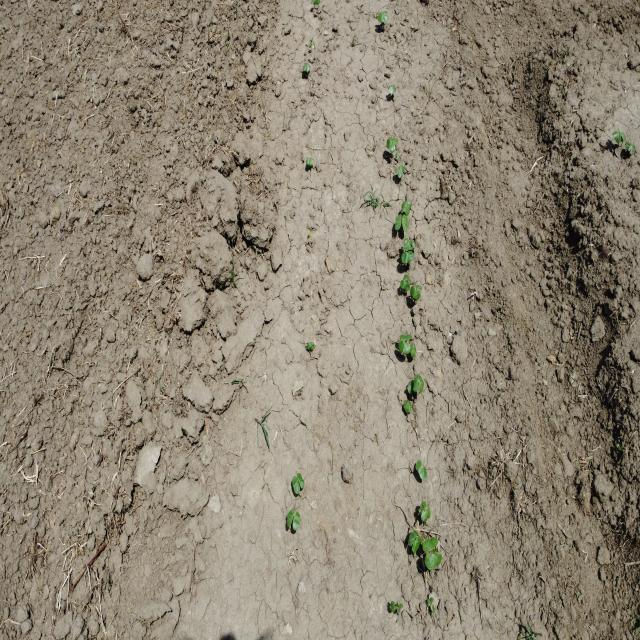seedling: (424, 552, 442, 570), (422, 537, 438, 552), (416, 460, 427, 480), (287, 508, 296, 527), (421, 506, 431, 523), (398, 340, 410, 354), (412, 535, 421, 553), (408, 530, 418, 546), (401, 251, 414, 263), (386, 138, 396, 153), (292, 476, 300, 494), (293, 511, 300, 531), (410, 286, 420, 300), (427, 597, 436, 612), (395, 214, 402, 231), (418, 374, 424, 393), (400, 280, 410, 291), (402, 214, 408, 232), (297, 473, 304, 488), (405, 199, 411, 216), (413, 375, 419, 392), (397, 164, 404, 178), (395, 601, 403, 613), (419, 501, 426, 514), (378, 13, 387, 23), (399, 334, 411, 341), (408, 380, 414, 393), (390, 601, 397, 612), (403, 238, 411, 247), (403, 274, 411, 283), (403, 401, 409, 413), (389, 85, 396, 95), (388, 137, 398, 144), (411, 343, 416, 357), (401, 202, 406, 213), (402, 246, 413, 251), (307, 343, 314, 350), (303, 65, 309, 73), (407, 400, 411, 412), (306, 159, 312, 166)
